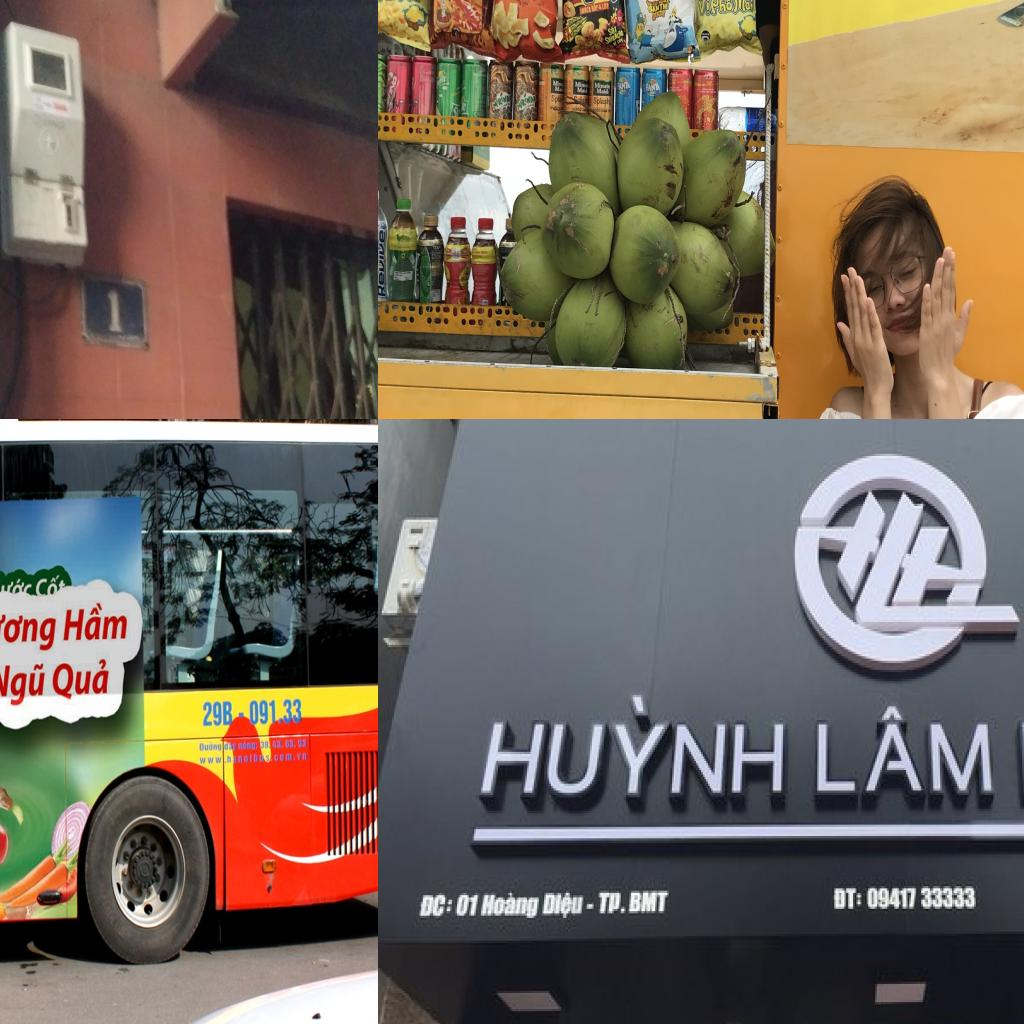text: (476, 692, 786, 806), (812, 702, 996, 804), (865, 886, 978, 916), (64, 599, 130, 642), (52, 656, 112, 700), (597, 890, 674, 922), (0, 611, 59, 652), (478, 891, 540, 927), (0, 663, 46, 709), (248, 698, 302, 726), (200, 751, 308, 765), (540, 890, 586, 922), (418, 891, 457, 920), (104, 286, 126, 337), (829, 886, 865, 913), (456, 890, 484, 922), (202, 700, 233, 728), (34, 572, 62, 598), (378, 227, 386, 299), (259, 738, 307, 749), (387, 72, 399, 108), (492, 92, 513, 112), (516, 93, 538, 112), (710, 0, 733, 18), (732, 0, 754, 16), (605, 29, 625, 46), (199, 741, 222, 753), (696, 0, 711, 16), (238, 740, 258, 751), (224, 740, 238, 752), (564, 24, 573, 42), (594, 96, 610, 106), (618, 81, 632, 91), (438, 72, 447, 87), (551, 94, 562, 106), (574, 81, 590, 89), (645, 84, 661, 92), (608, 24, 618, 36), (650, 10, 660, 22), (579, 6, 592, 15), (398, 0, 421, 5), (646, 6, 660, 14), (595, 83, 611, 90), (452, 107, 461, 118), (758, 120, 765, 134), (596, 88, 609, 95), (660, 2, 670, 11), (591, 2, 599, 13), (602, 0, 610, 11), (553, 80, 564, 88), (452, 25, 461, 34), (524, 43, 532, 52), (659, 10, 667, 19), (500, 242, 512, 248), (577, 88, 588, 94), (657, 0, 670, 5), (462, 100, 467, 113), (581, 96, 589, 104), (572, 106, 582, 112), (555, 86, 564, 92), (550, 105, 559, 111), (670, 71, 679, 77), (592, 108, 602, 113), (432, 245, 442, 250), (612, 40, 618, 48), (617, 38, 623, 46), (646, 0, 653, 6), (652, 0, 659, 6), (428, 240, 435, 246), (601, 109, 608, 114), (618, 15, 622, 22), (581, 108, 588, 112), (599, 4, 602, 12), (702, 33, 710, 36), (608, 108, 612, 114), (437, 240, 443, 244), (434, 240, 438, 245)
